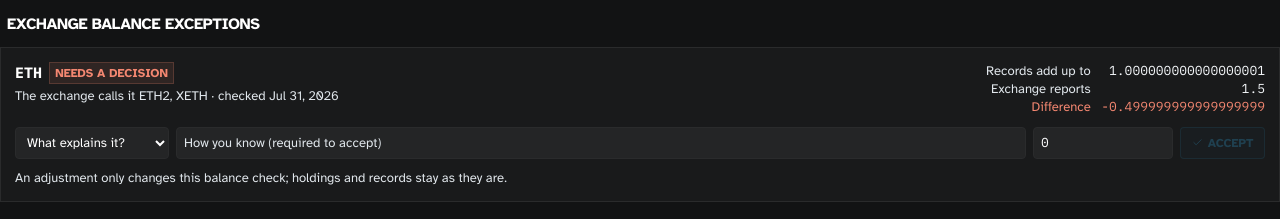
Test: ExchangeBalanceExceptionQueue › will not accept without both a category and evidence
Expected: the button "Accept" is disabled, [1180,127,1265,159]
Select "Provider migration" in the dropdown named "Category" at [92, 143], box [15,127,169,159]
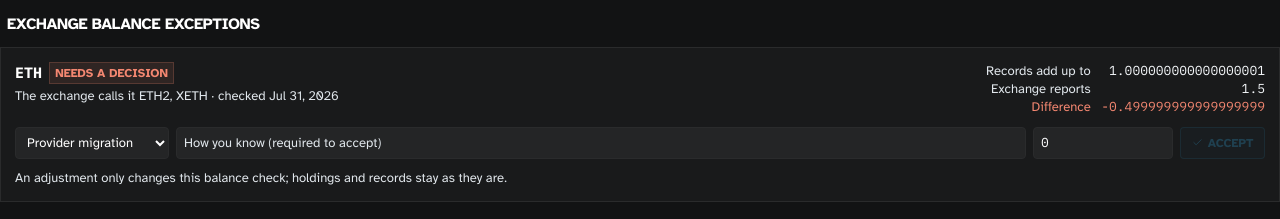
Expected: the button "Accept" is disabled, [1180,127,1265,159]
Type "Venue migration notice" into the field named "Evidence" at [601, 143], box [176,127,1026,159]
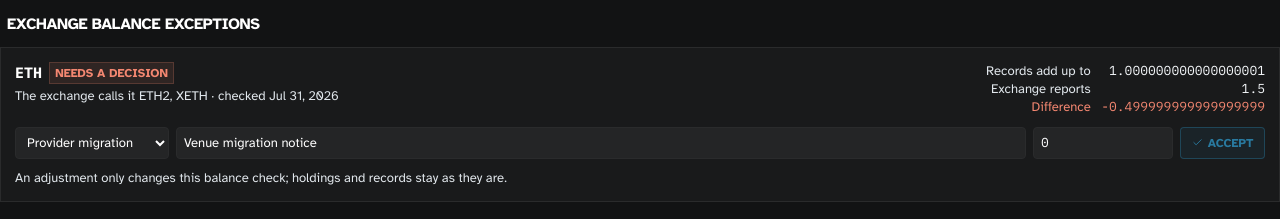
Expected: the button "Accept" is enabled, [1180,127,1265,159]
